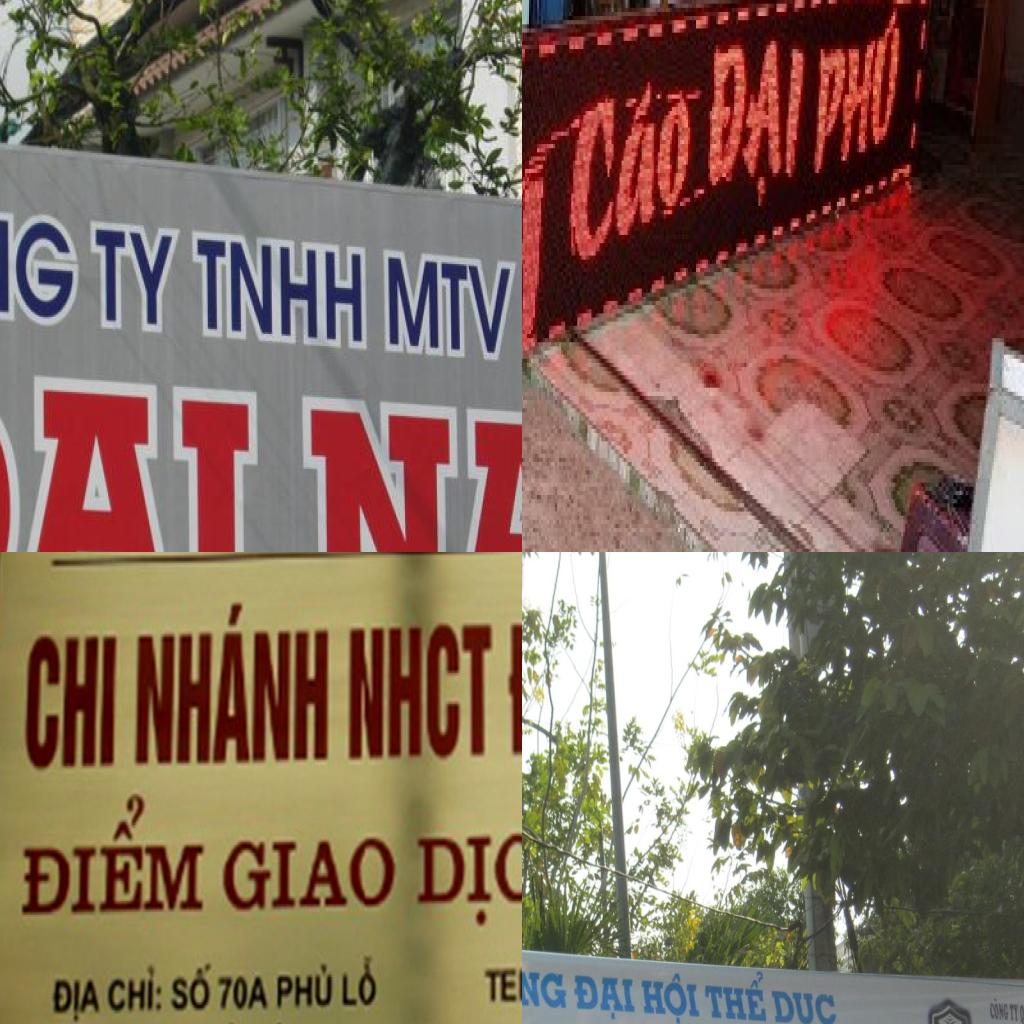text: (0, 359, 263, 552), (135, 597, 330, 768), (561, 54, 696, 280), (21, 793, 206, 918), (706, 32, 813, 235), (348, 622, 493, 766), (191, 234, 369, 350), (382, 250, 515, 363), (222, 836, 398, 915), (25, 631, 118, 772), (0, 173, 82, 330), (88, 222, 180, 338), (416, 831, 522, 930), (700, 970, 770, 1024), (638, 967, 704, 1024), (570, 972, 639, 1023), (276, 960, 334, 1011), (522, 951, 569, 1013), (107, 963, 163, 1014), (770, 985, 841, 1024), (50, 978, 105, 1024), (170, 963, 214, 1014), (340, 954, 378, 1011), (216, 974, 271, 1013), (482, 966, 522, 1005), (986, 995, 1010, 1022), (1010, 1002, 1020, 1023)
